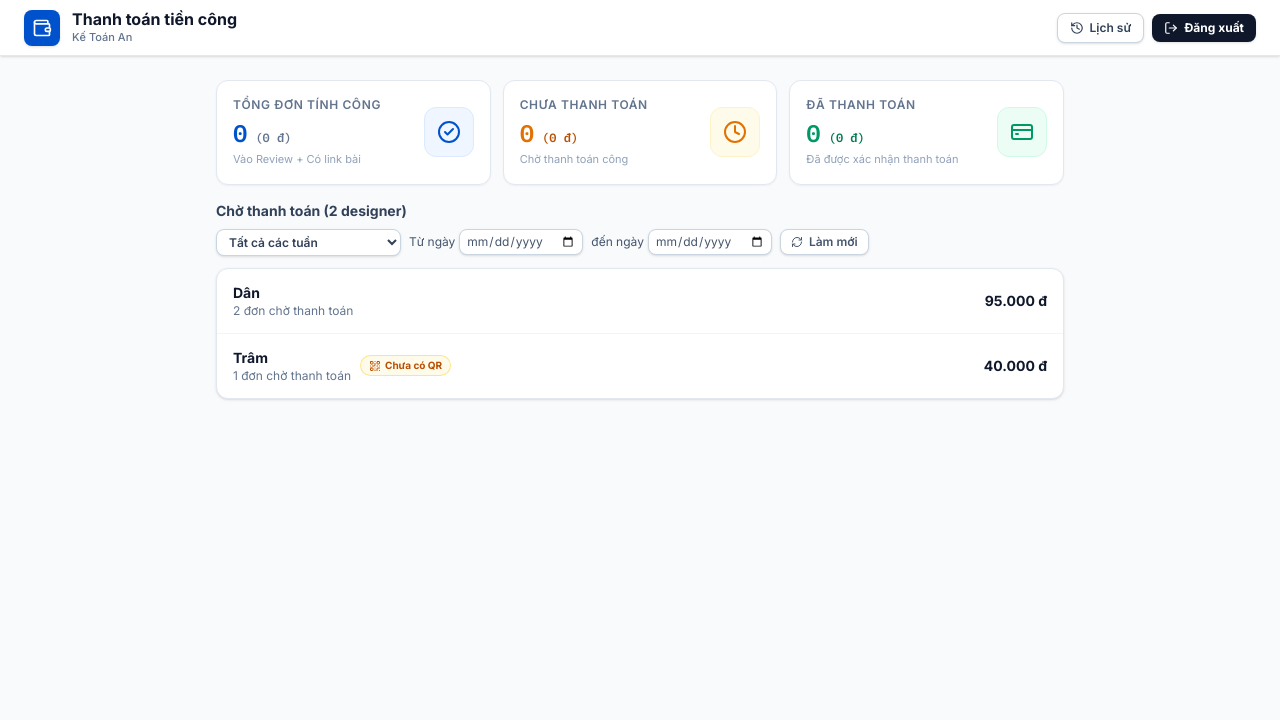
AccountantPaymentsPage › the popup has its own period filter: the amount follows it
Click the text "Dân". click: (246, 292)
box: [233,284,260,300]
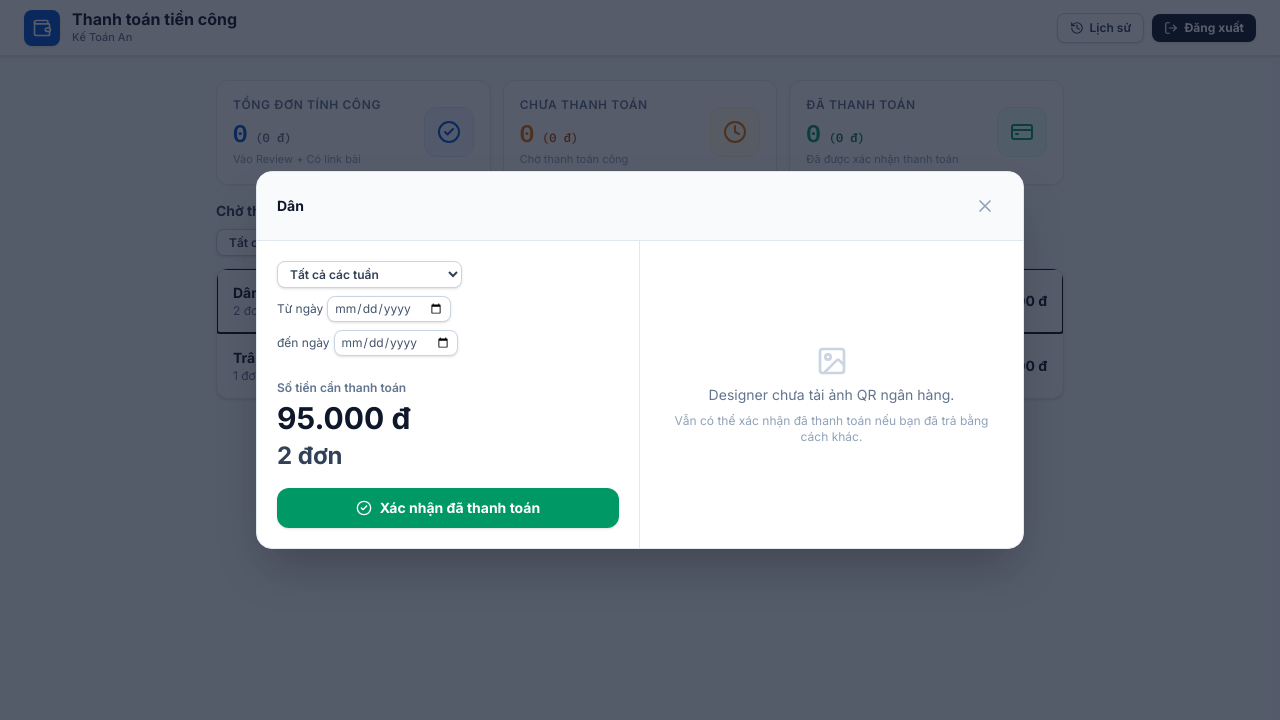
Now the text with test id "pay-amount" reads "95.000 đ", box [277,400,410,436]
Type "2026-10-01" into the date field labelled "Từ ngày". click: (389, 309)
box: [327,296,451,322]
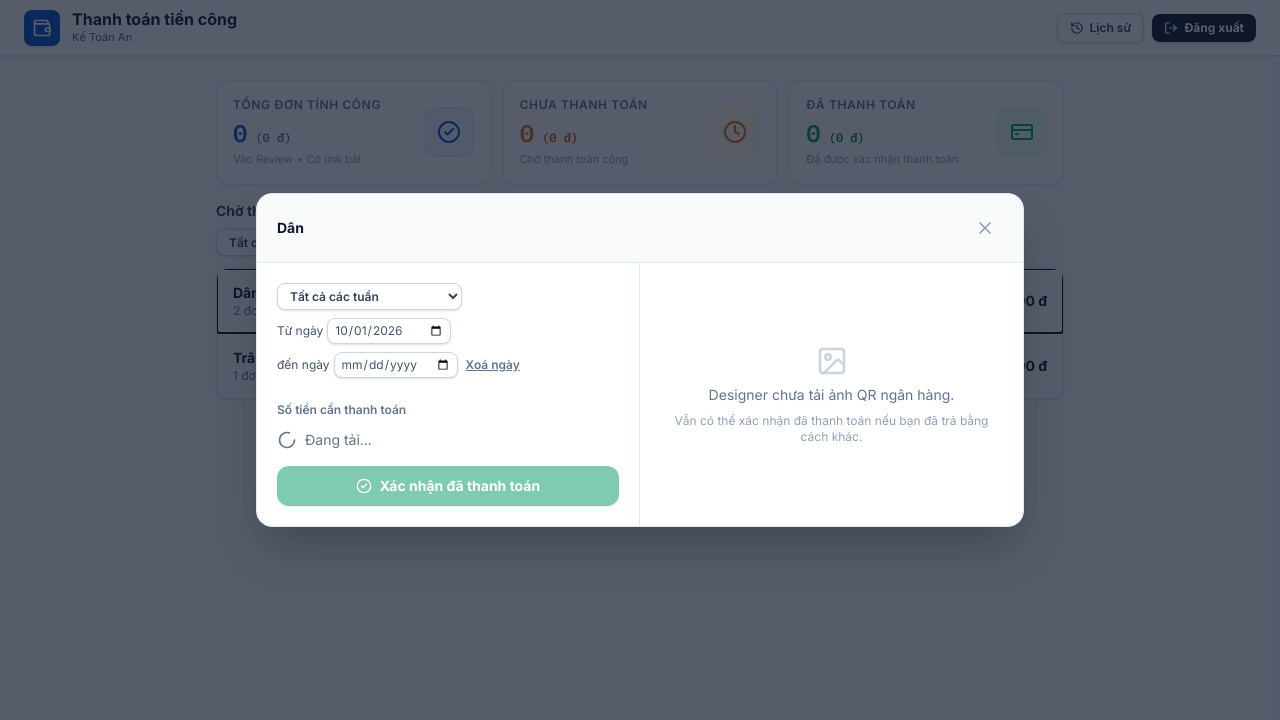
Type "2026-10-07" into the date field labelled "đến ngày". click: (396, 365)
box: [334,352,458,378]
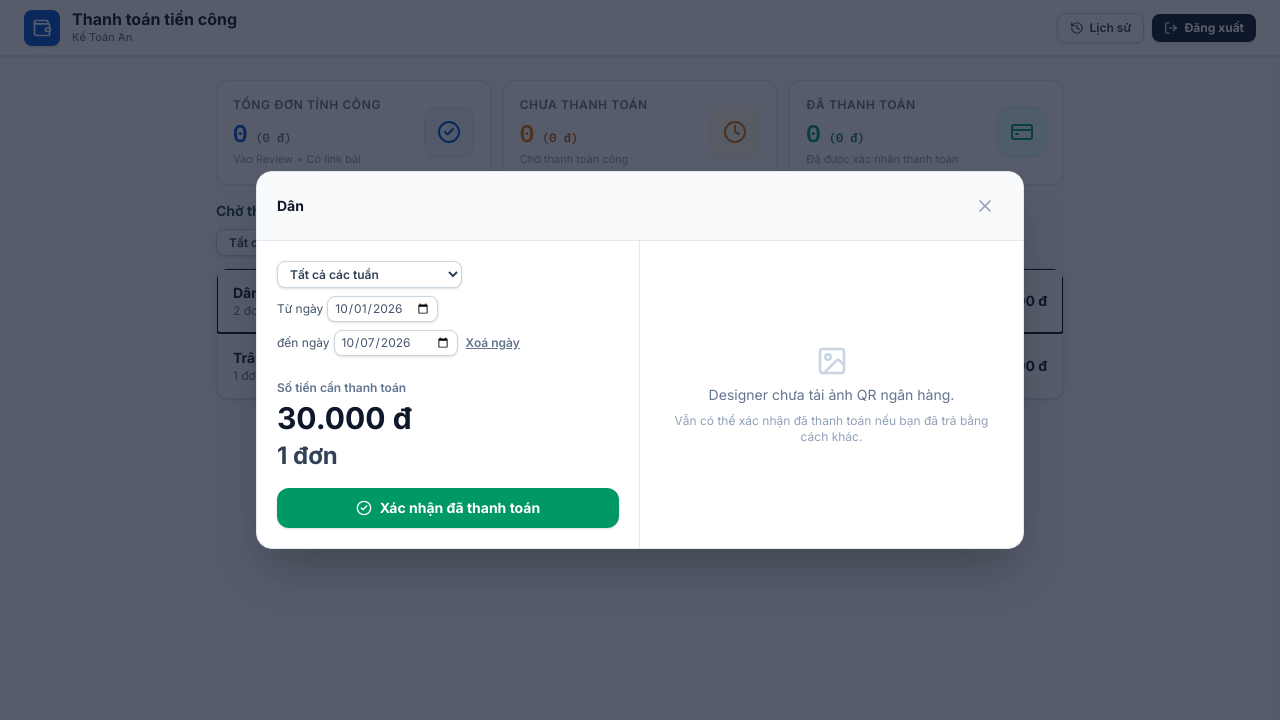
Now the text with test id "pay-amount" reads "30.000 đ", box [277,400,412,436]
Now the text "1 đơn" is shown, box [277,441,338,470]
